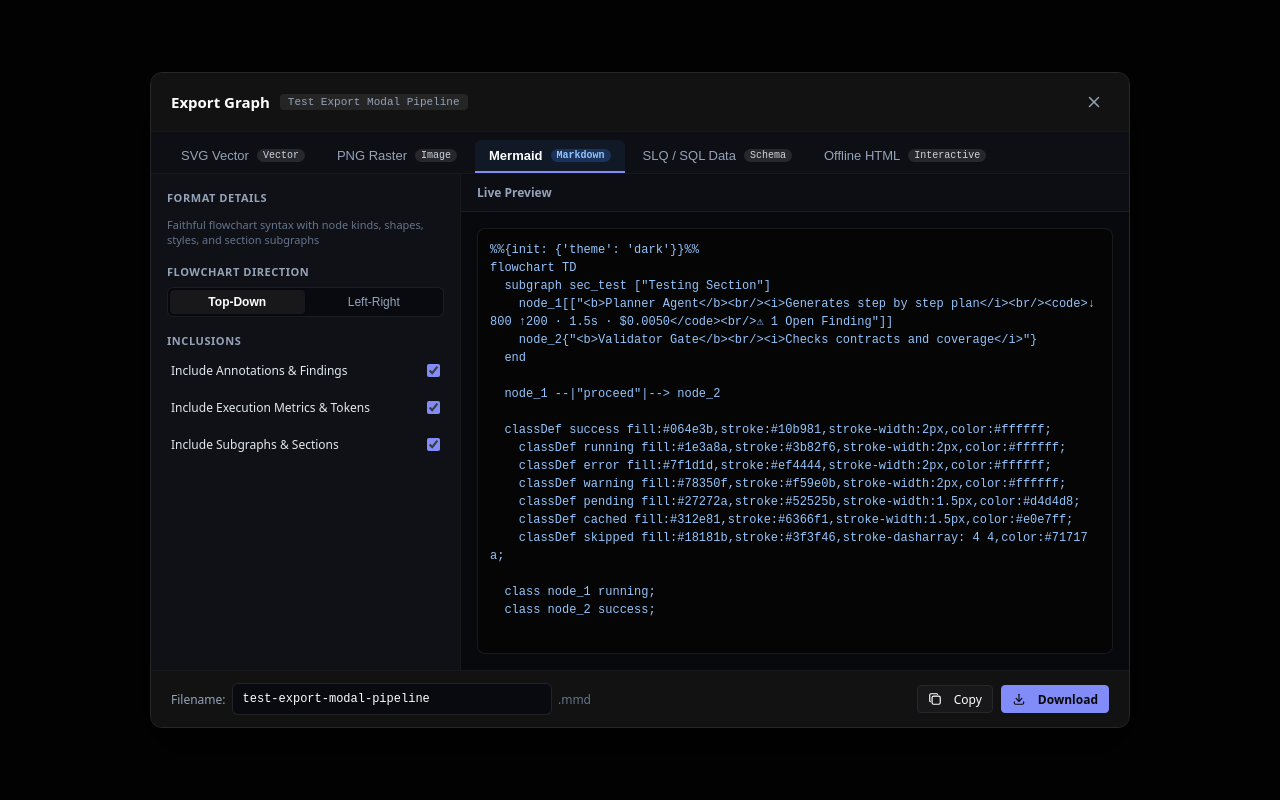
ExportModal Component › copies formatted export content to clipboard and displays copied confirmation
Click the button "Copy" at (955, 699), box [917, 685, 993, 713]
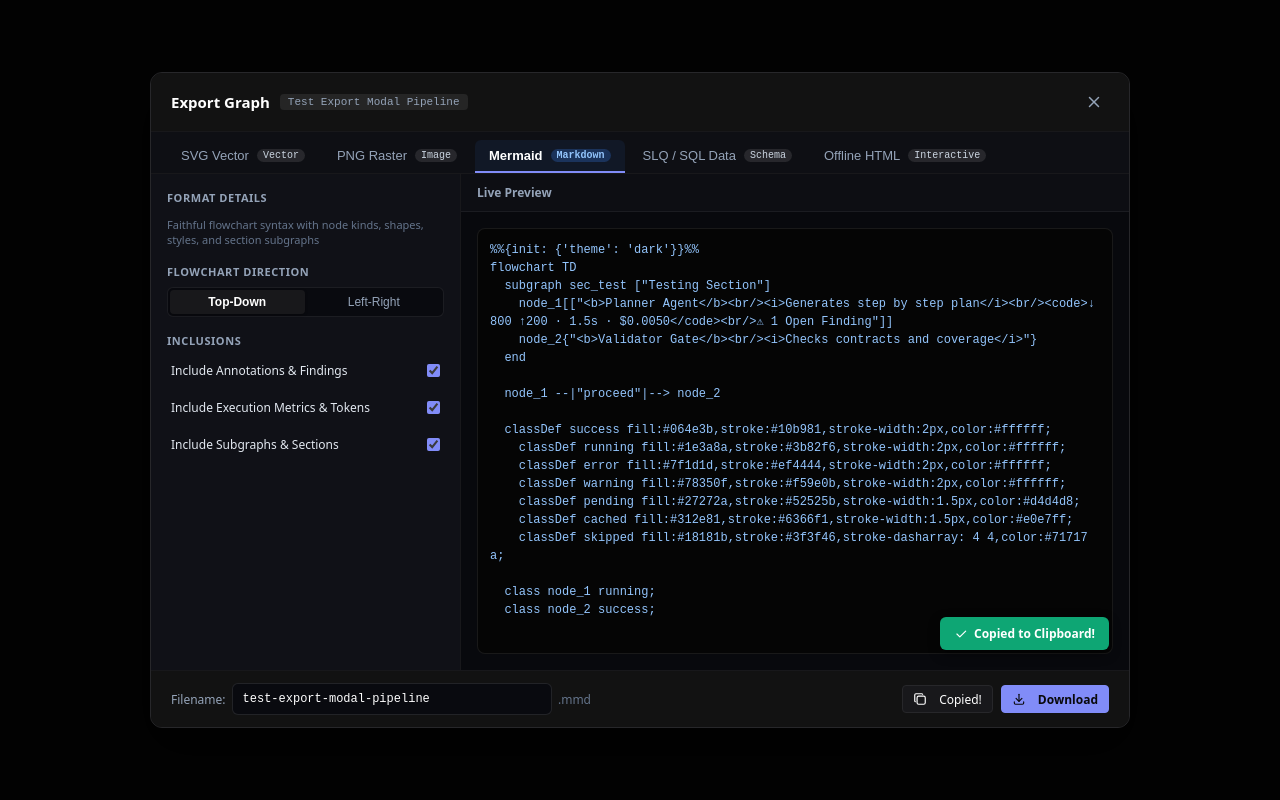
Check: the message "Copied to Clipboard!" is shown, box [940, 617, 1109, 650]
